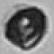correct: (2, 6, 50, 52)
